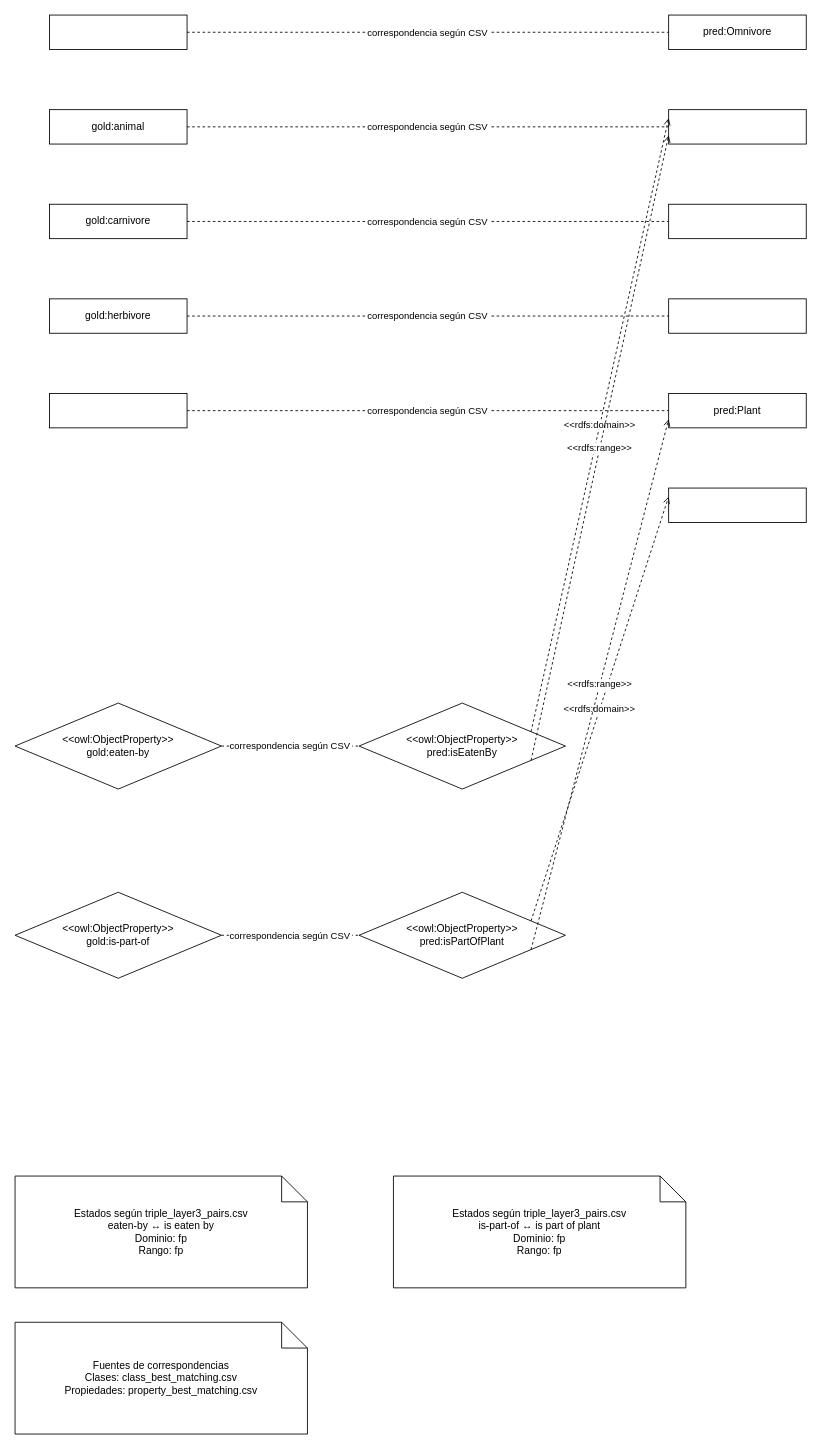
The diagram is 821 pixels wide and 1449 high, and some of its shapes have lost their labels. The shapes that lost their labels are listed below. From the top down, each one's centre as x and y in pixels, then its label:
At [118,31]: "gold:Omnivore".
At [737,126]: "pred:Animal".
At [737,221]: "pred:Carnivore".
At [737,315]: "pred:Herbivore".
At [118,410]: "gold:plant".
At [737,504]: "pred:PlantPart".
